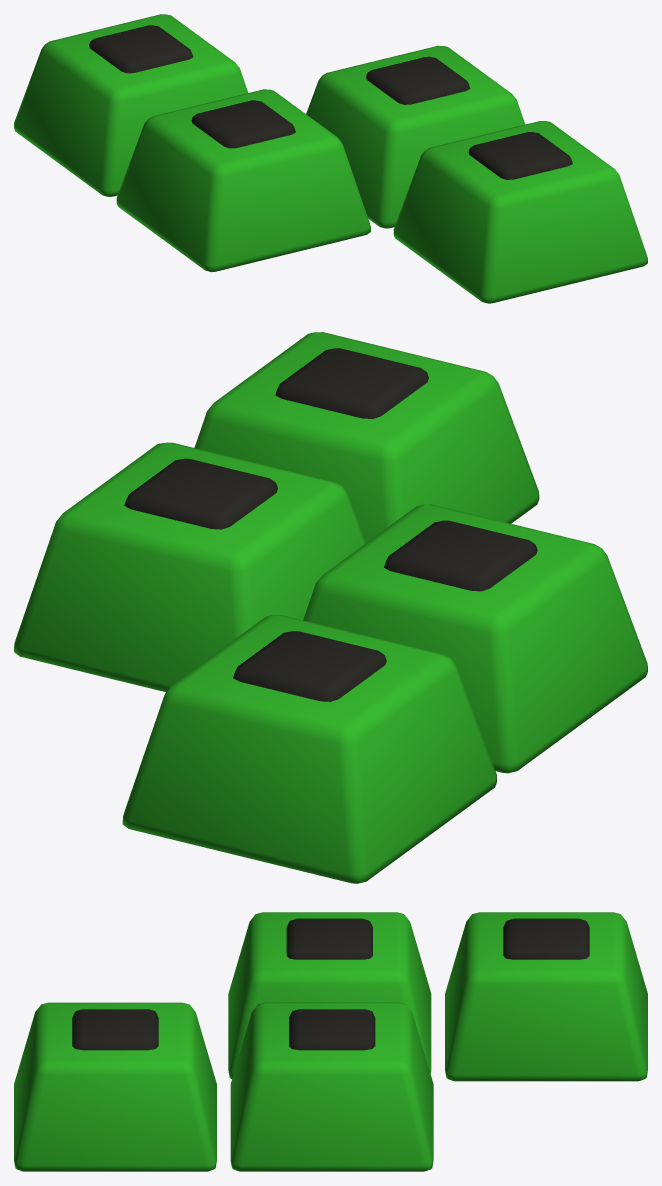
Rendered from S_piece up_low poly.fbx.
The picture shows the model from 3 angles, top to bottom: view 1: azimuth 30°, elevation 25°; view 2: azimuth 150°, elevation 25°; view 3: azimuth 270°, elevation 25°; orthographic projection. The views are drawn at different scales.
Parts seen in each view (by area): view 1: Cube.059; view 2: Cube.059; view 3: Cube.059.
Part boxes in pixels (x1,y1,x2,y2): Cube.059: [14, 14, 647, 303]; Cube.059: [14, 332, 647, 883]; Cube.059: [14, 912, 647, 1171].
Bounding box in the file's own units: 41.53 × 7.84 × 27.31.
